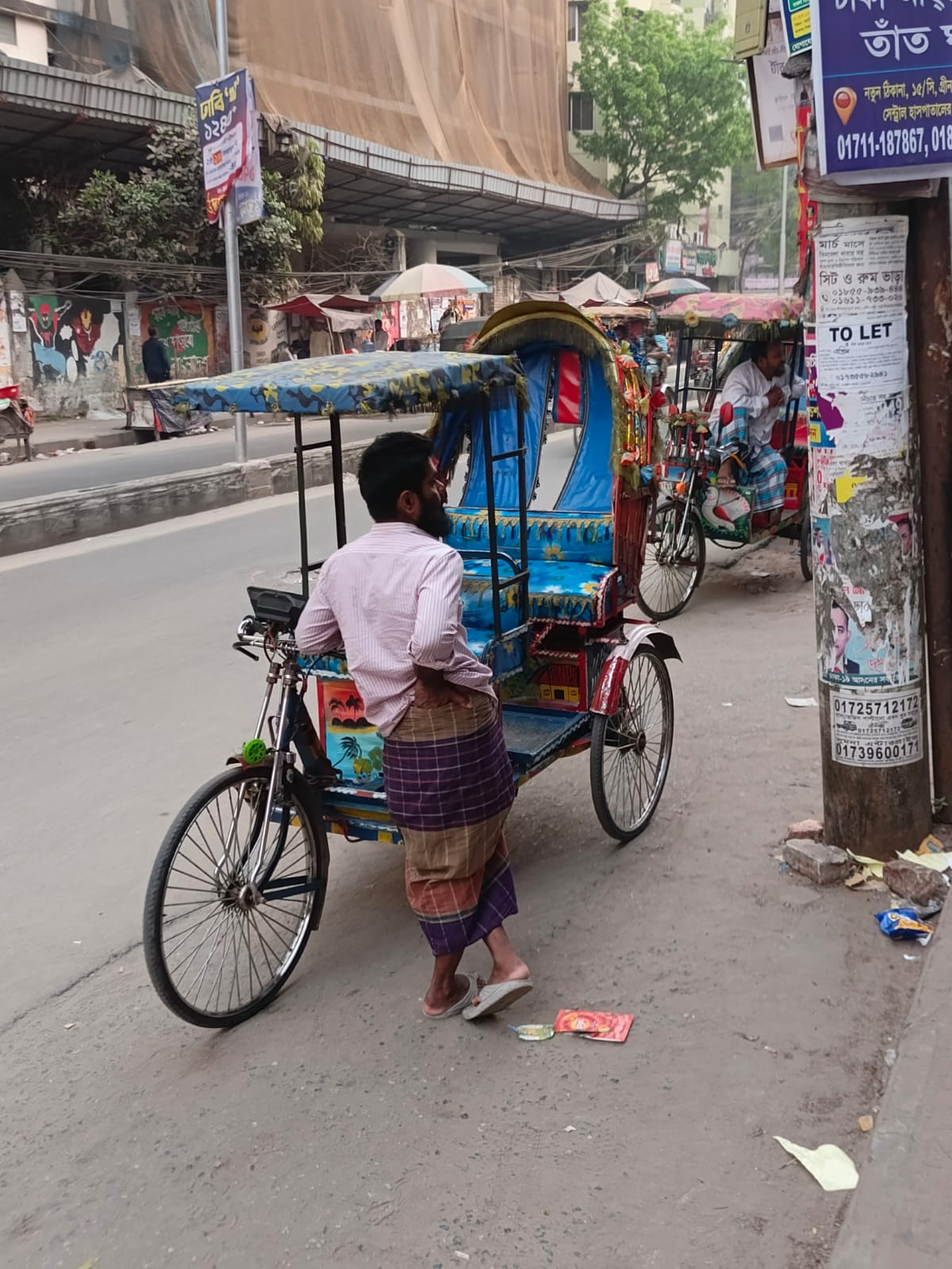auto-ricksaw: (147, 283, 701, 1041)
